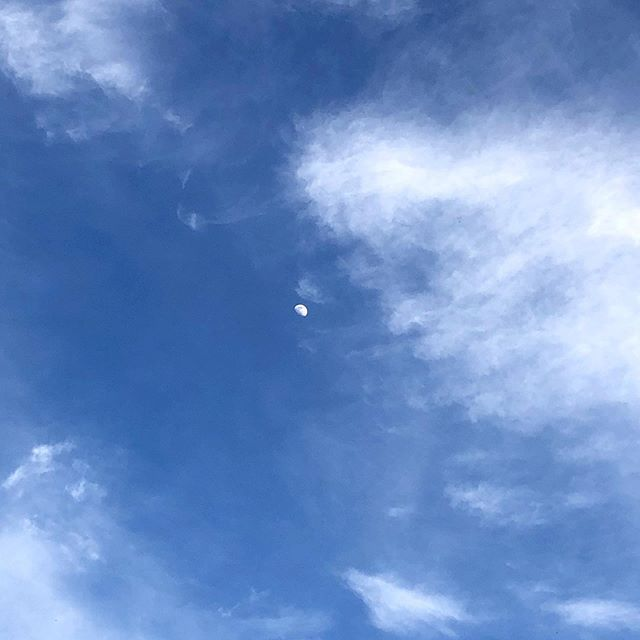moon: (285, 296, 319, 325)
sky: (1, 1, 640, 640)
